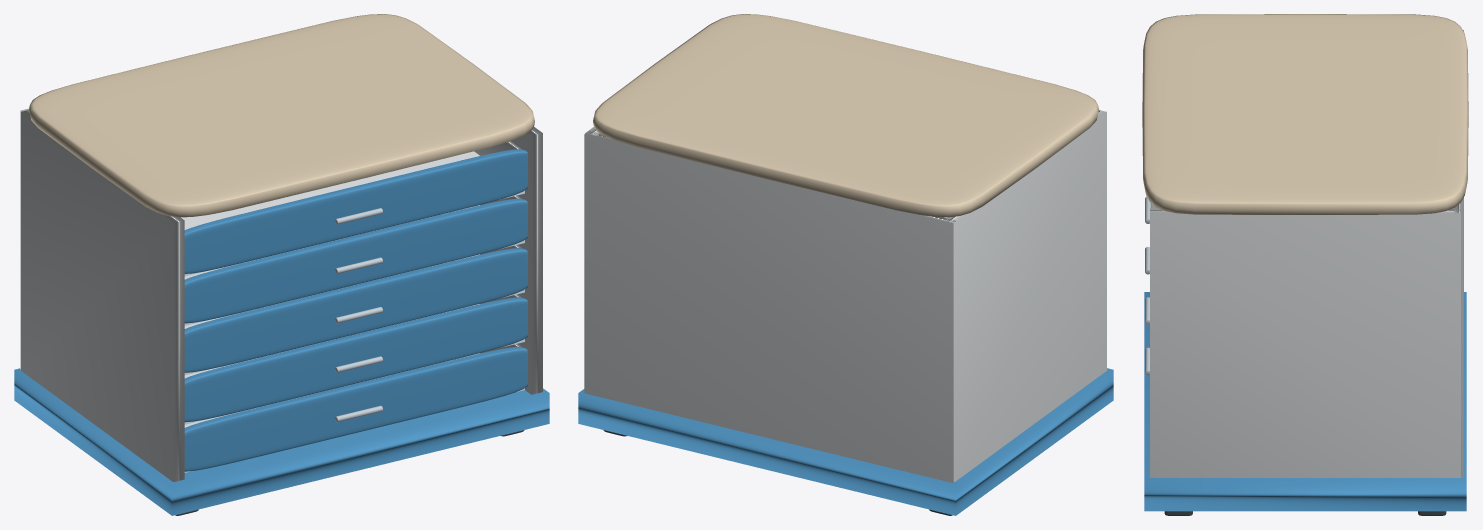
Rendered from plan_cabinet.glb.
3 views of the same model, side by side, from view 1: azimuth 30°, elevation 25°; view 2: azimuth 150°, elevation 25°; view 3: azimuth 270°, elevation 25° (orthographic). The views are drawn at different scales.
Parts seen in each view (by area): view 1: Cabinet_Top, Cabinet_Side_-0.55, Cabinet_Base, Plan_Drawer_4_Front, Plan_Drawer_1_Front, Plan_Drawer_5_Front, Plan_Drawer_2_Front, Plan_Drawer_3_Front, Cabinet_Side_0.55, Plan_Drawer_5_Bottom; view 2: Cabinet_Back, Cabinet_Top, Cabinet_Side_-0.55, Cabinet_Base; view 3: Cabinet_Side_0.55, Cabinet_Top, Cabinet_Base, Cabinet_Back.
Boxes of the visible parts, box(x1,y1,x2,y2) form: Cabinet_Top: box(29, 14, 534, 217); Cabinet_Side_-0.55: box(21, 110, 184, 481); Cabinet_Base: box(14, 368, 549, 515); Plan_Drawer_4_Front: box(184, 198, 527, 323); Plan_Drawer_1_Front: box(184, 346, 527, 471); Plan_Drawer_5_Front: box(184, 149, 527, 273); Plan_Drawer_2_Front: box(184, 297, 527, 422); Plan_Drawer_3_Front: box(184, 248, 527, 372); Cabinet_Side_0.55: box(511, 127, 542, 394); Plan_Drawer_5_Bottom: box(181, 151, 479, 229); Cabinet_Back: box(584, 131, 955, 482); Cabinet_Top: box(593, 14, 1098, 217); Cabinet_Side_-0.55: box(943, 110, 1106, 481); Cabinet_Base: box(578, 368, 1113, 515); Cabinet_Side_0.55: box(1150, 208, 1460, 477); Cabinet_Top: box(1142, 14, 1468, 214); Cabinet_Base: box(1144, 292, 1466, 511); Cabinet_Back: box(1454, 30, 1463, 477).
Bounding box in the file's own units: 1.18 × 0.9285 × 0.85.
